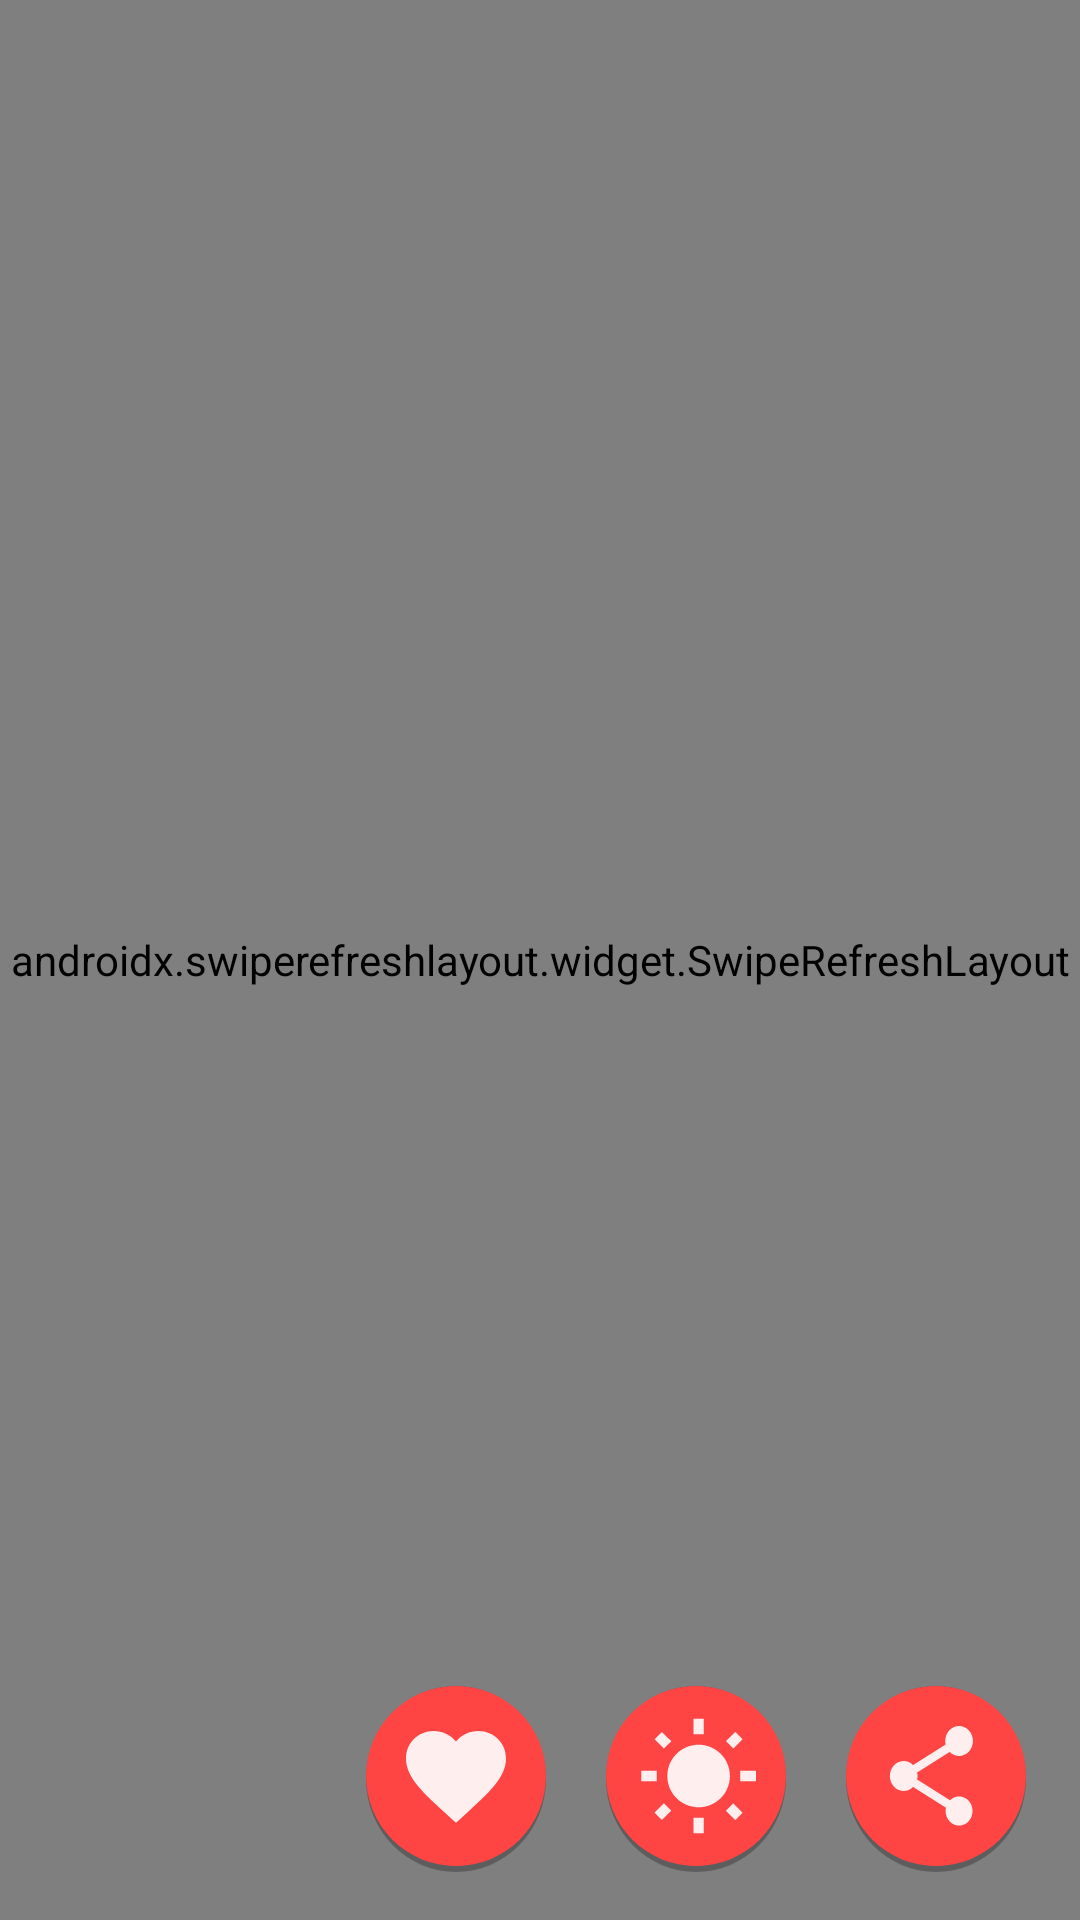

Named icons in this screenshot (1080×1920) and their centers, (x=x, y=y):
favorite 24p: (x=456, y=1779)
share: (x=936, y=1779)
sunny: (x=696, y=1779)
